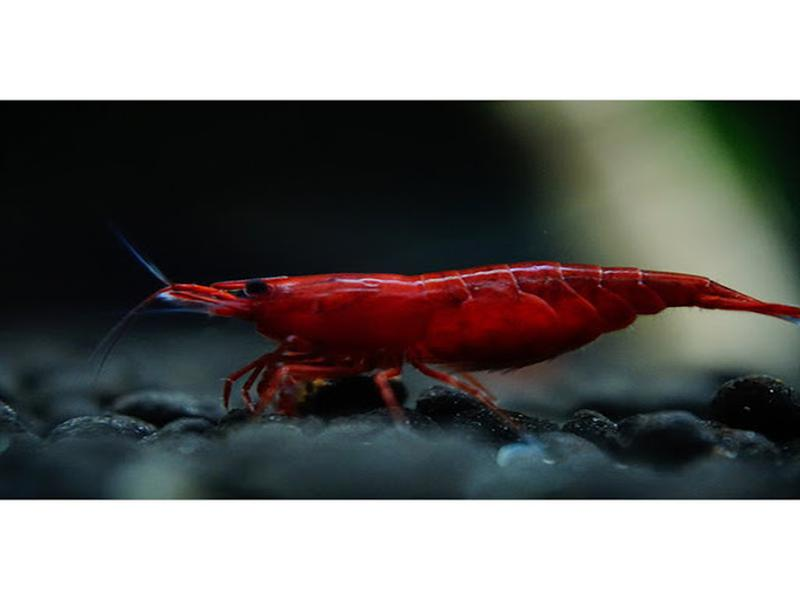shrimp: (163, 262, 793, 371)
